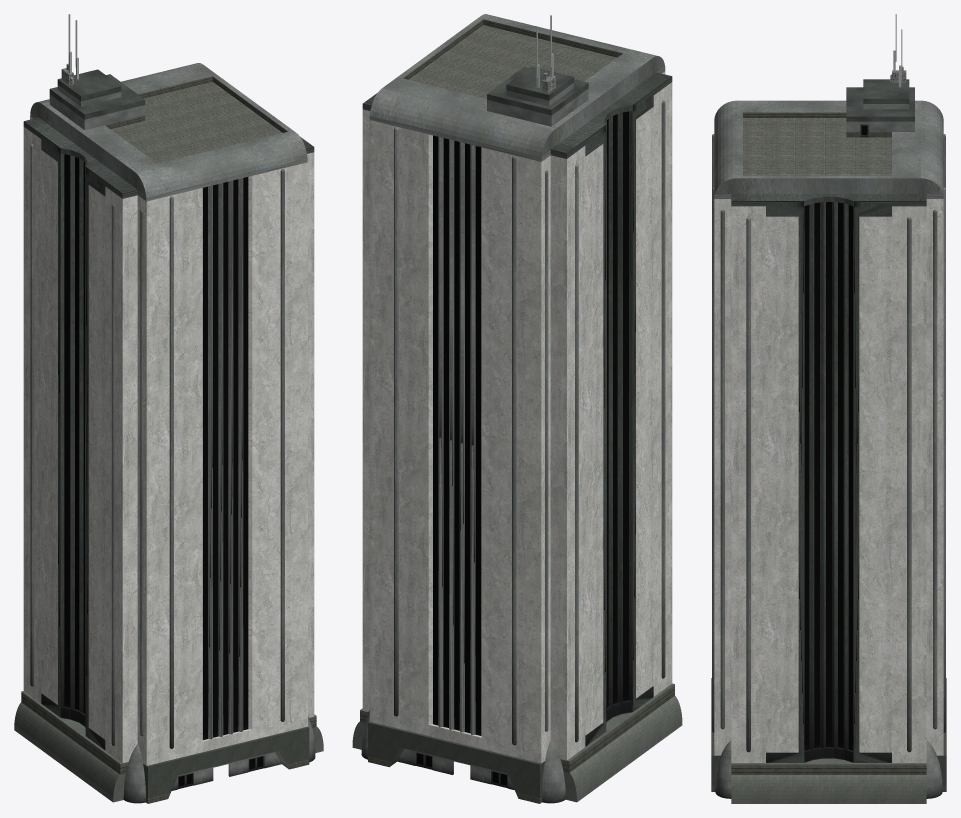
The model's file is thm_corl_imprv_building_s01_r0_mesh_l0.fbx.
3 views of the same model, side by side, from view 1: azimuth 30°, elevation 25°; view 2: azimuth 150°, elevation 25°; view 3: azimuth 270°, elevation 25° (orthographic). The views are drawn at different scales.
Visible parts, largest first — view 1: mesh_node; view 2: mesh_node; view 3: mesh_node.
Part boxes in pixels (box(x1,y1,x2,y2)): mesh_node: box(14, 14, 323, 803); mesh_node: box(352, 14, 682, 803); mesh_node: box(711, 14, 946, 803).
Bounding box in the file's own units: 41.8 × 136 × 41.
